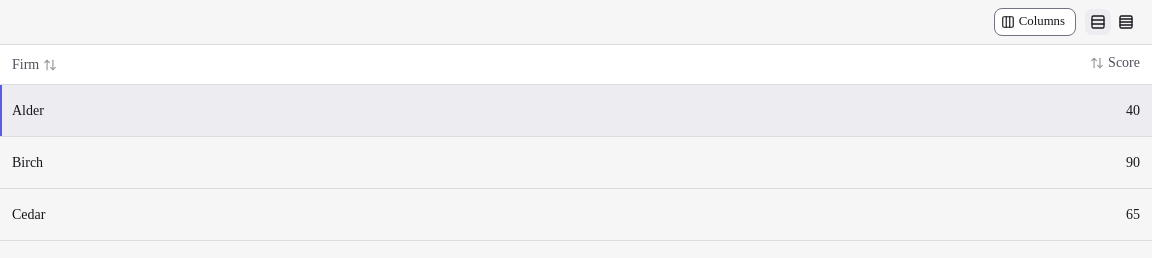
Scenario: DataGrid › switches density
Click the button named "Compact rows". click: (1126, 22)
box: [1112,8,1140,36]
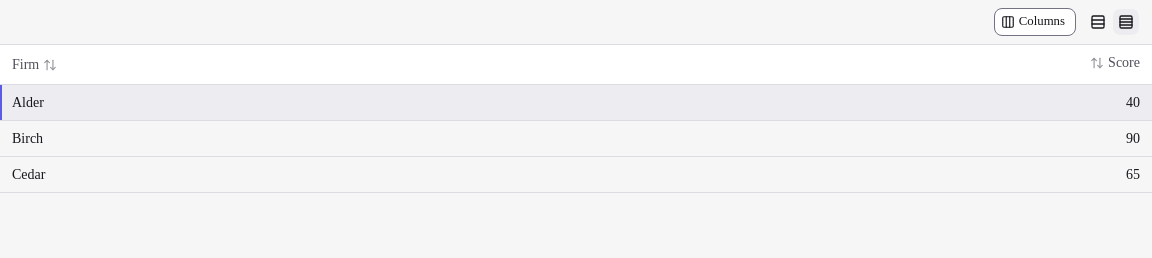
Expected: the table has attribute data-density="compact", [0,45,1151,193]
